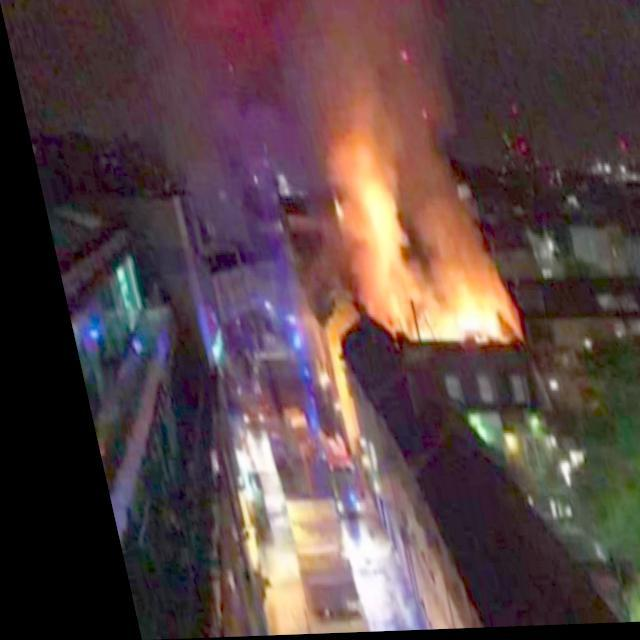Fire: (324, 138, 508, 350)
